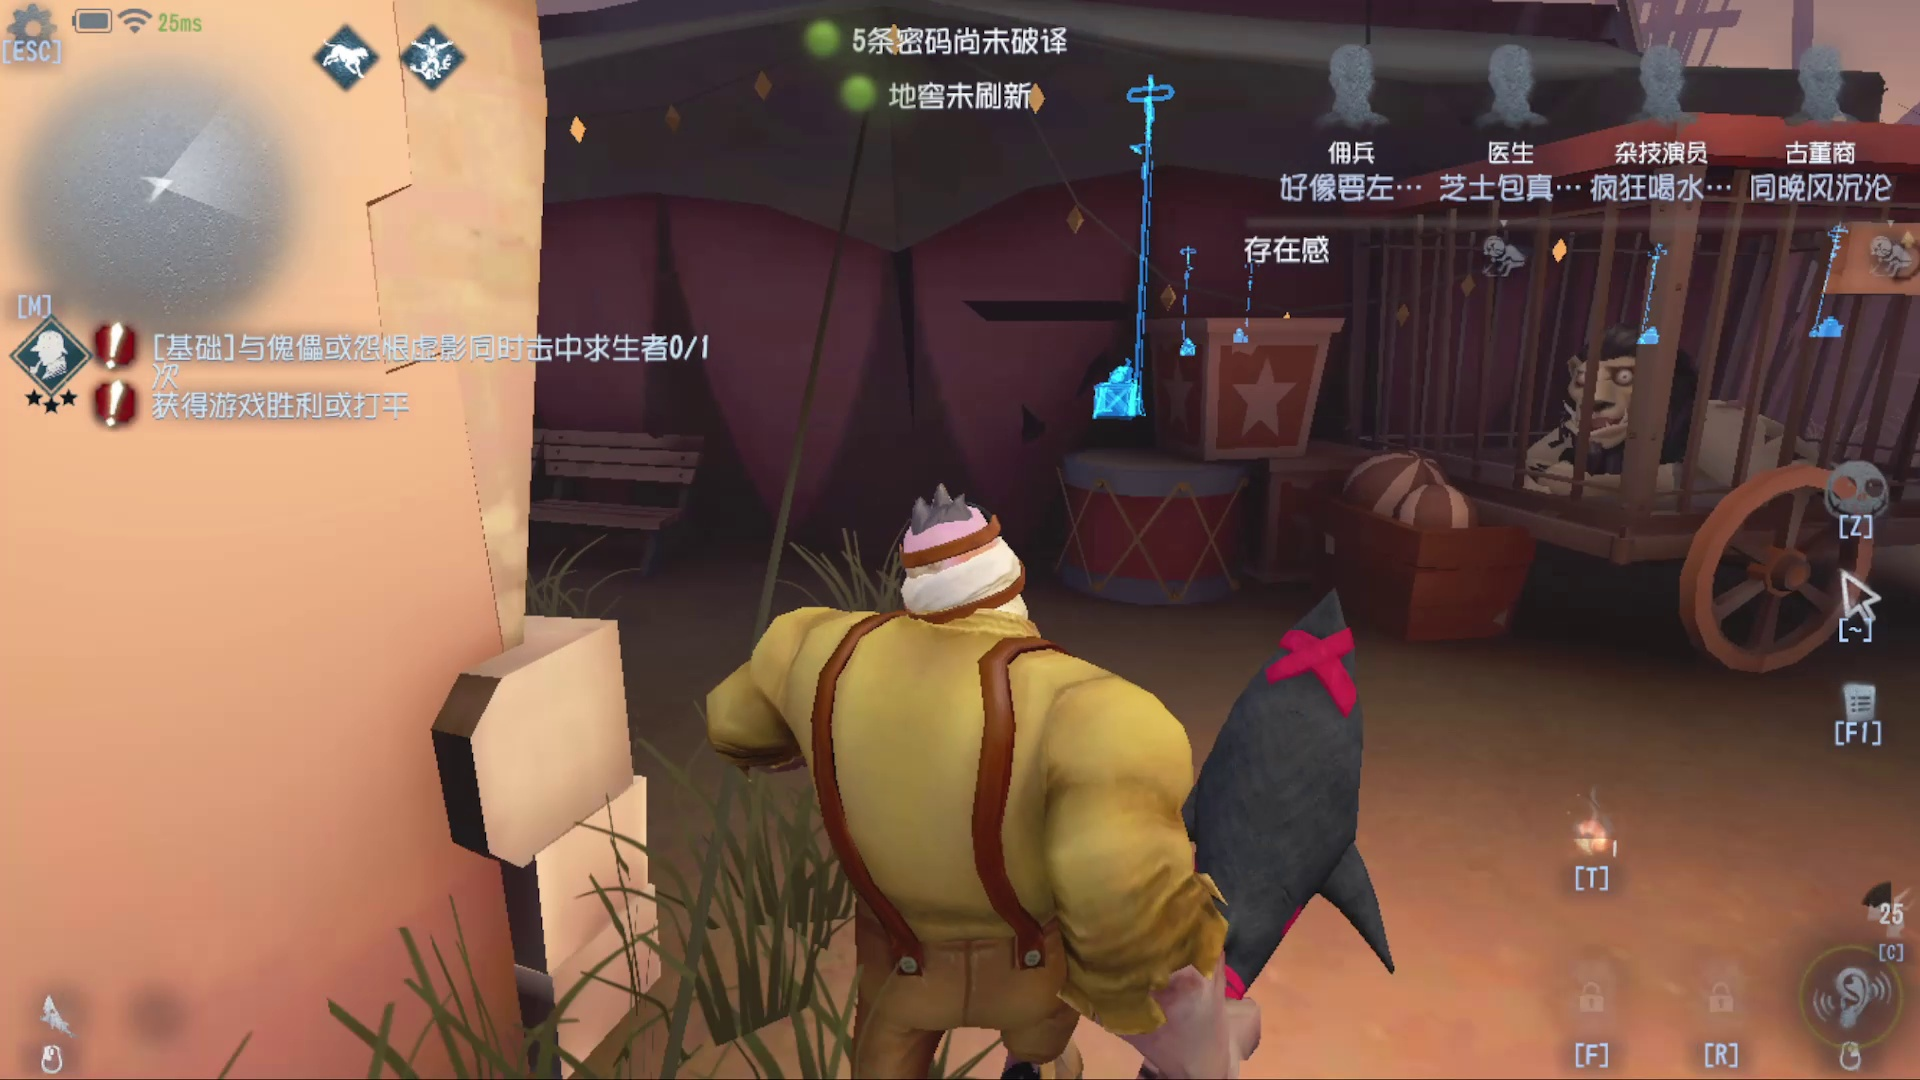密码机: (1087, 67, 1179, 444), (1792, 219, 1865, 355), (1617, 237, 1687, 360), (1218, 229, 1283, 351), (1168, 237, 1211, 371)
